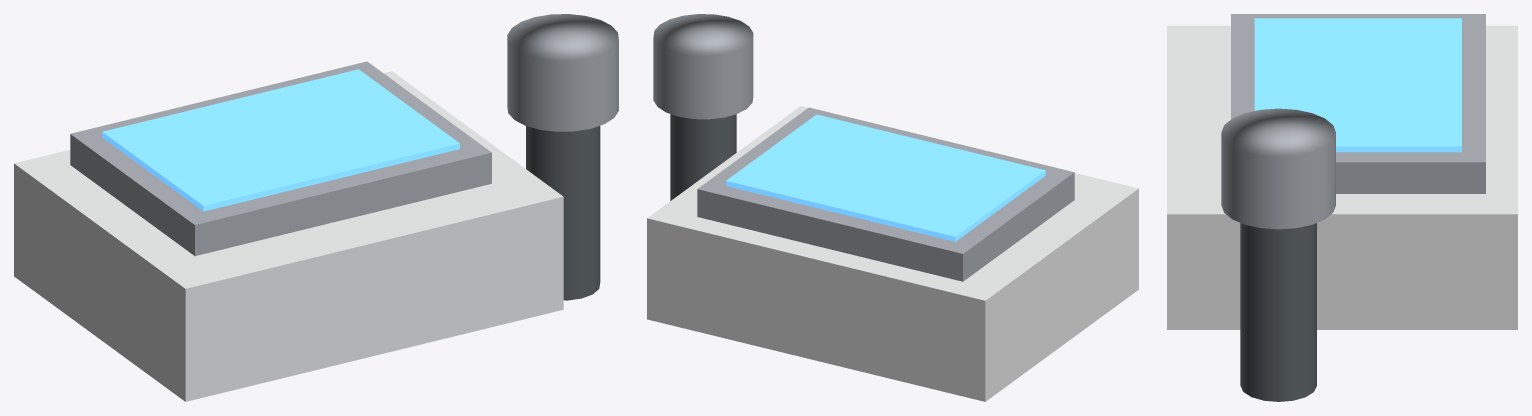
The model's file is biopulse_prime_scanner.glb.
3 renders of one model, left to right at view 1: azimuth 30°, elevation 25°; view 2: azimuth 150°, elevation 25°; view 3: azimuth 270°, elevation 25°, orthographic. The views are drawn at different scales.
Visible parts, largest first — view 1: Chassis_Base, Active_Display, Screen_Housing, Transducer_Head, Transducer_Handle; view 2: Chassis_Base, Active_Display, Screen_Housing, Transducer_Head, Transducer_Handle; view 3: Chassis_Base, Active_Display, Transducer_Handle, Screen_Housing, Transducer_Head.
Boxes of the visible parts, box(x1,y1,x2,y2) form: Chassis_Base: box(14, 71, 563, 401); Active_Display: box(102, 69, 459, 211); Screen_Housing: box(70, 61, 491, 255); Transducer_Head: box(507, 14, 618, 131); Transducer_Handle: box(526, 126, 600, 300); Chassis_Base: box(647, 106, 1138, 401); Active_Display: box(726, 114, 1045, 241); Screen_Housing: box(697, 107, 1074, 281); Transducer_Head: box(653, 14, 753, 119); Transducer_Handle: box(670, 114, 736, 200); Chassis_Base: box(1167, 25, 1517, 329); Active_Display: box(1254, 18, 1461, 152); Transducer_Handle: box(1240, 223, 1316, 401); Screen_Housing: box(1231, 14, 1485, 193); Transducer_Head: box(1221, 108, 1335, 229).
Size of the model in its own units: 1.78 by 0.875 by 1.1.
